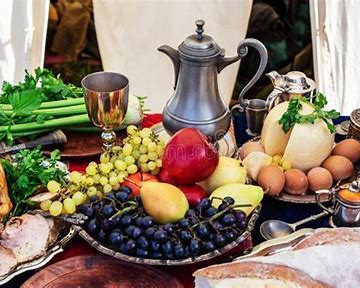inorganic: (54, 118, 157, 219), (74, 207, 251, 254), (3, 61, 88, 136), (0, 200, 75, 267), (266, 96, 333, 169), (4, 147, 66, 215), (0, 212, 55, 273), (125, 176, 192, 223), (162, 131, 214, 188), (203, 176, 266, 217), (204, 150, 246, 192), (254, 159, 284, 194), (240, 140, 266, 177), (324, 151, 354, 175), (333, 135, 360, 159), (285, 163, 308, 189), (306, 163, 332, 186)
organic: (152, 22, 245, 157), (79, 59, 133, 161), (258, 199, 328, 258), (259, 64, 326, 120), (313, 175, 359, 233), (0, 133, 77, 158), (239, 94, 271, 144)
